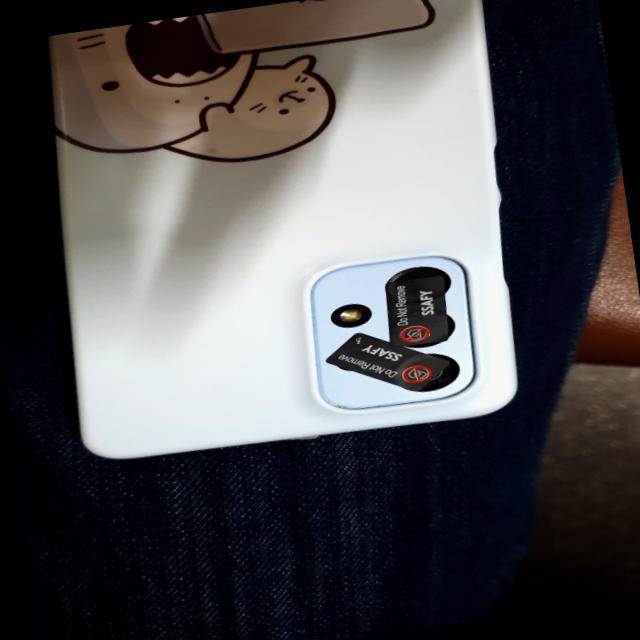phone: (22, 0, 531, 473)
sticker: (320, 322, 454, 403), (382, 268, 454, 350)
